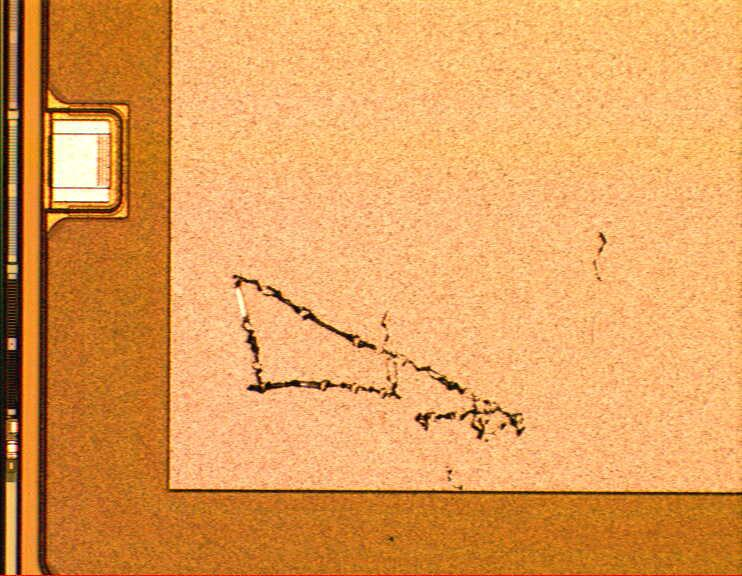SCRATCH: (223, 214, 615, 510)
